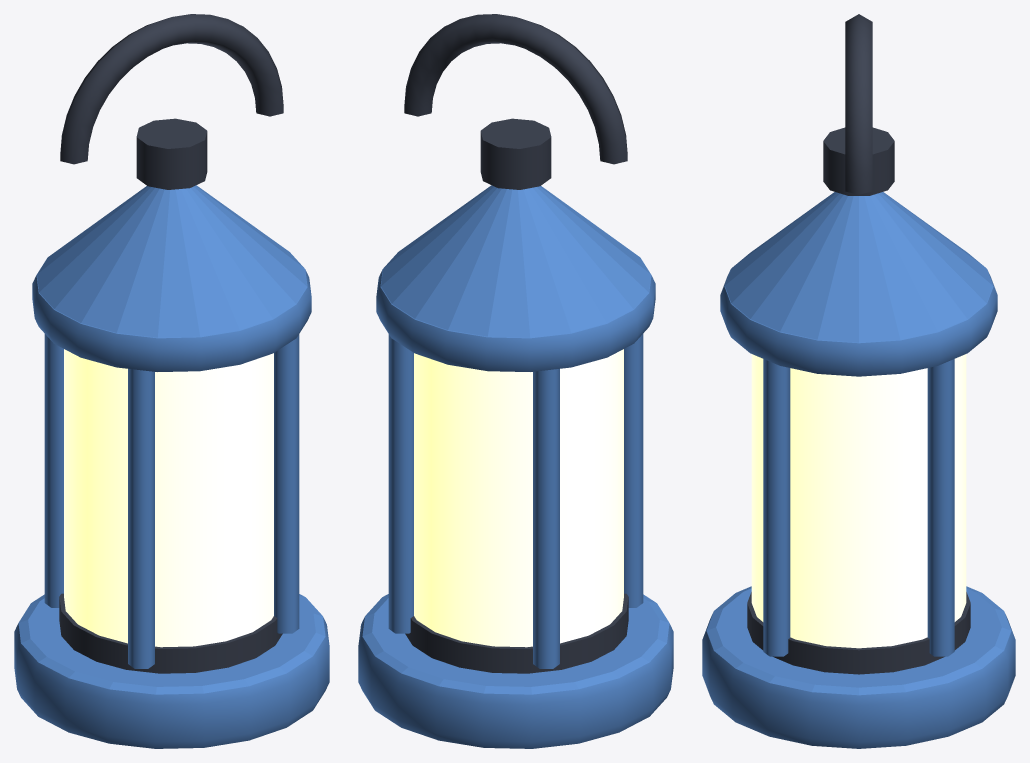
Rendered from lanterna.glb.
The picture shows the model from 3 angles, left to right: view 1: azimuth 30°, elevation 25°; view 2: azimuth 150°, elevation 25°; view 3: azimuth 270°, elevation 25°; orthographic projection.
Parts seen in each view (by area): view 1: lanterna; view 2: lanterna; view 3: lanterna.
Part boxes in pixels (box(x1,y1,x2,y2)): lanterna: box(14, 14, 329, 748); lanterna: box(358, 14, 673, 748); lanterna: box(702, 14, 1015, 748).
Bounding box in the file's own units: 0.14 × 0.327 × 0.14.
